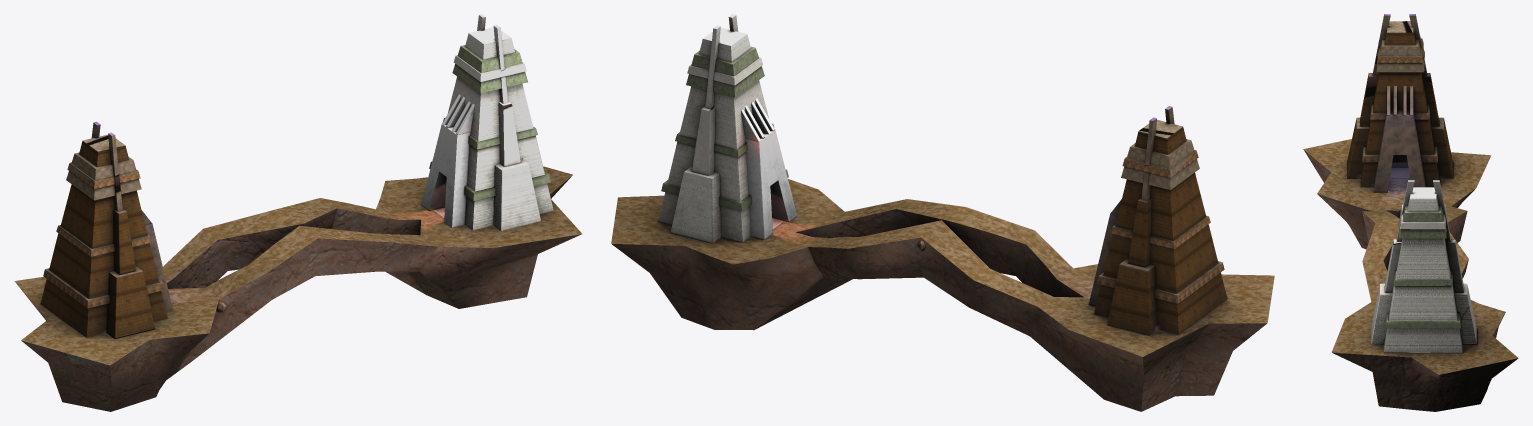
The model's file is FacingWorlds_tex_4.gltf.
3 renders of one model, left to right at view 1: azimuth 30°, elevation 25°; view 2: azimuth 150°, elevation 25°; view 3: azimuth 270°, elevation 25°, orthographic. The views are drawn at different scales.
Visible parts, largest first — view 1: TOWER_WHOLE; view 2: TOWER_WHOLE; view 3: TOWER_WHOLE.
Part boxes in pixels (x1,y1,x2,y2): TOWER_WHOLE: [14, 14, 581, 411]; TOWER_WHOLE: [611, 14, 1274, 411]; TOWER_WHOLE: [1303, 14, 1518, 411].
Bounding box in the file's own units: 111 × 47.11 × 41.63.
Materials: 1 (1 with a texture image).
